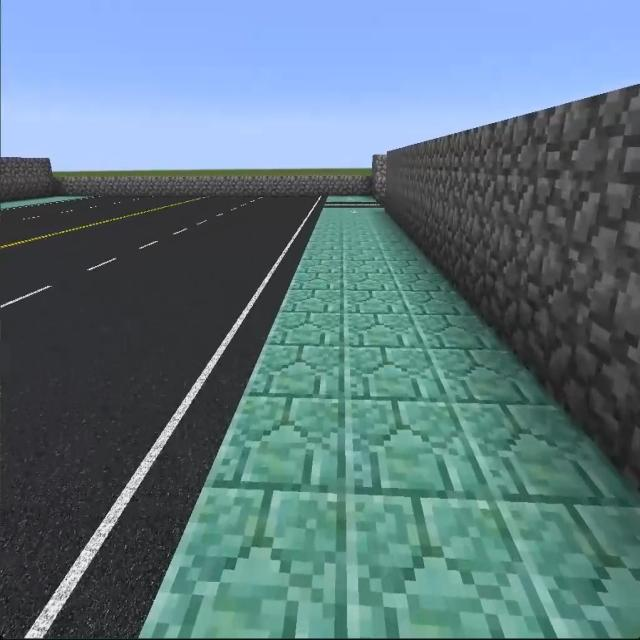road: (5, 195, 324, 634)
sidewalk: (150, 208, 638, 636), (0, 196, 89, 209), (328, 195, 373, 202)
